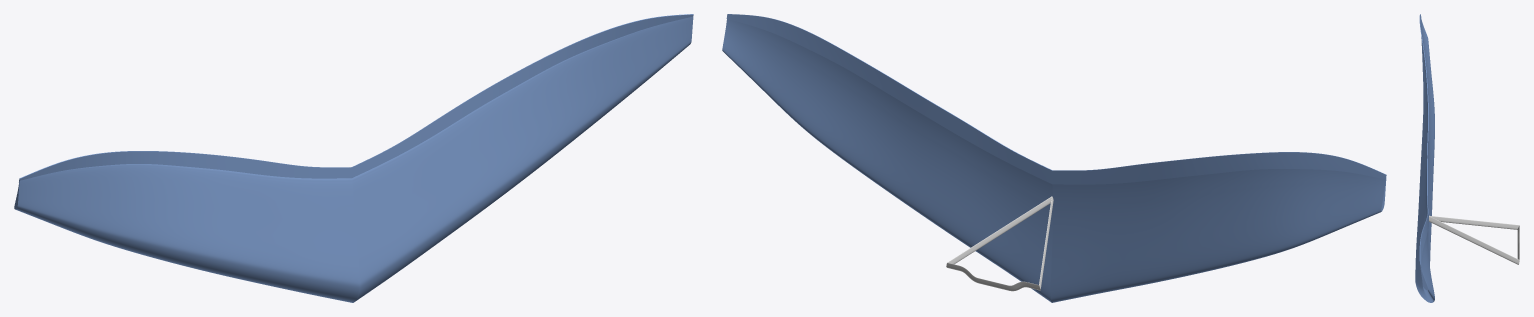
The model's file is wing.gltf.
3 views of the same model, side by side, from view 1: azimuth 30°, elevation 25°; view 2: azimuth 150°, elevation 25°; view 3: azimuth 270°, elevation 25° (orthographic). The views are drawn at different scales.
Parts seen in each view (by area): view 1: mesh4_meshnode_4, mesh1_meshnode_1, mesh16_meshnode_16, mesh10_meshnode_10; view 2: mesh4_meshnode_4, mesh1_meshnode_1, mesh12_meshnode_12, mesh17_meshnode_17, mesh9_meshnode_9, mesh8_meshnode_8, mesh26_meshnode_26; view 3: mesh4_meshnode_4, mesh1_meshnode_1, mesh27_meshnode_27, mesh49_meshnode_49, mesh13_meshnode_13, mesh17_meshnode_17, mesh14_meshnode_14, mesh12_meshnode_12.
Boxes of the visible parts, x1,y1,x2,y2 form: mesh4_meshnode_4: (15,164,359,302); mesh1_meshnode_1: (352,16,693,301); mesh16_meshnode_16: (352,14,693,177); mesh10_meshnode_10: (19,151,351,179); mesh4_meshnode_4: (1050,169,1385,302); mesh1_meshnode_1: (722,19,1052,301); mesh12_meshnode_12: (1052,152,1386,180); mesh17_meshnode_17: (727,14,1052,180); mesh9_meshnode_9: (1052,165,1385,184); mesh8_meshnode_8: (726,15,1052,183); mesh26_meshnode_26: (948,196,1051,264); mesh4_meshnode_4: (1415,19,1434,276); mesh1_meshnode_1: (1415,205,1434,302); mesh27_meshnode_27: (1429,216,1519,264); mesh49_meshnode_49: (1429,215,1519,229); mesh13_meshnode_13: (1419,14,1428,195); mesh17_meshnode_17: (1420,214,1428,263); mesh14_meshnode_14: (1419,195,1428,264); mesh12_meshnode_12: (1420,14,1428,167).
Size of the model in its own units: 9.66 by 2.96 by 1.7.
